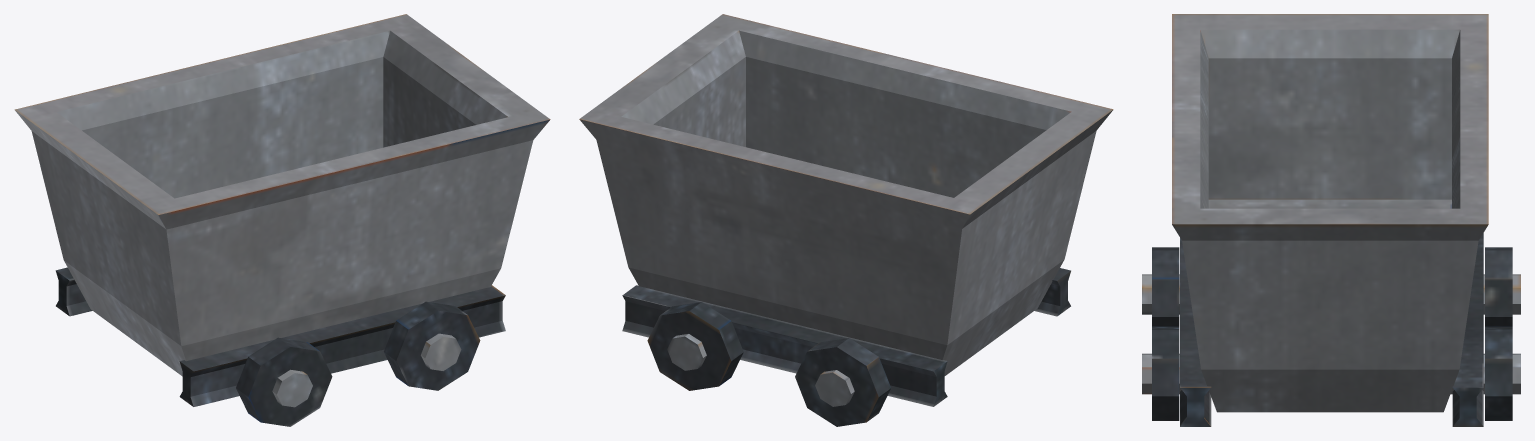
File: Minecart.obj
3 renders of one model, left to right at view 1: azimuth 30°, elevation 25°; view 2: azimuth 150°, elevation 25°; view 3: azimuth 270°, elevation 25°, orthographic. The views are drawn at different scales.
Visible parts, largest first — view 1: gun_Cube.002; view 2: gun_Cube.002; view 3: gun_Cube.002.
Part boxes in pixels (x1,y1,x2,y2): gun_Cube.002: (14,14,550,426); gun_Cube.002: (579,14,1113,426); gun_Cube.002: (1142,14,1520,426).
Size of the model in its own units: 3.55 by 2.03 by 2.7.
